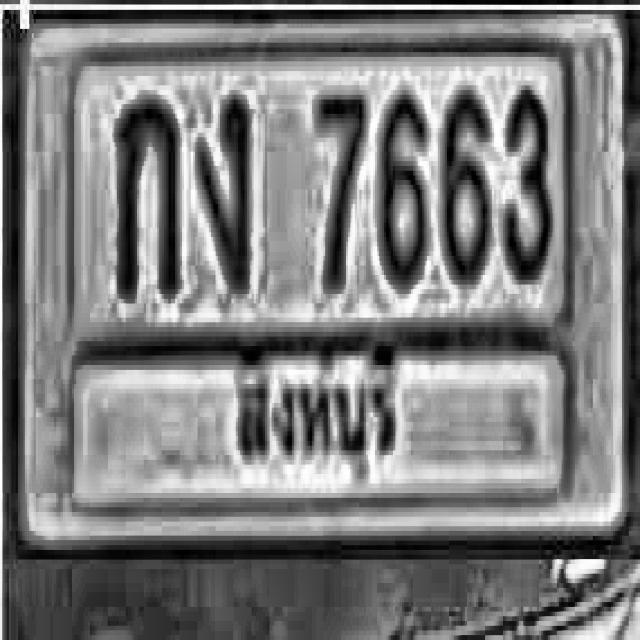license-plate: (13, 9, 636, 555)
